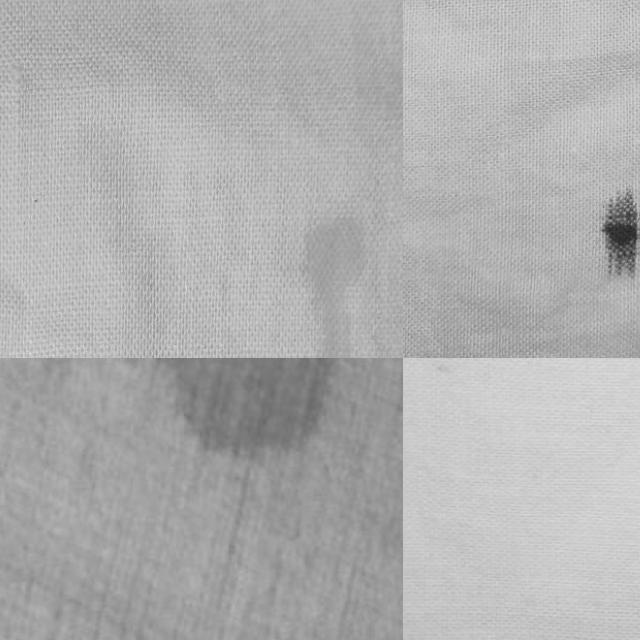Hole: (107, 358, 387, 542), (569, 128, 640, 282)
